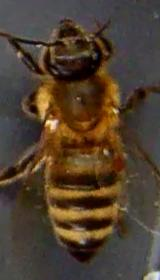varroa_mite: (105, 142, 132, 181)
